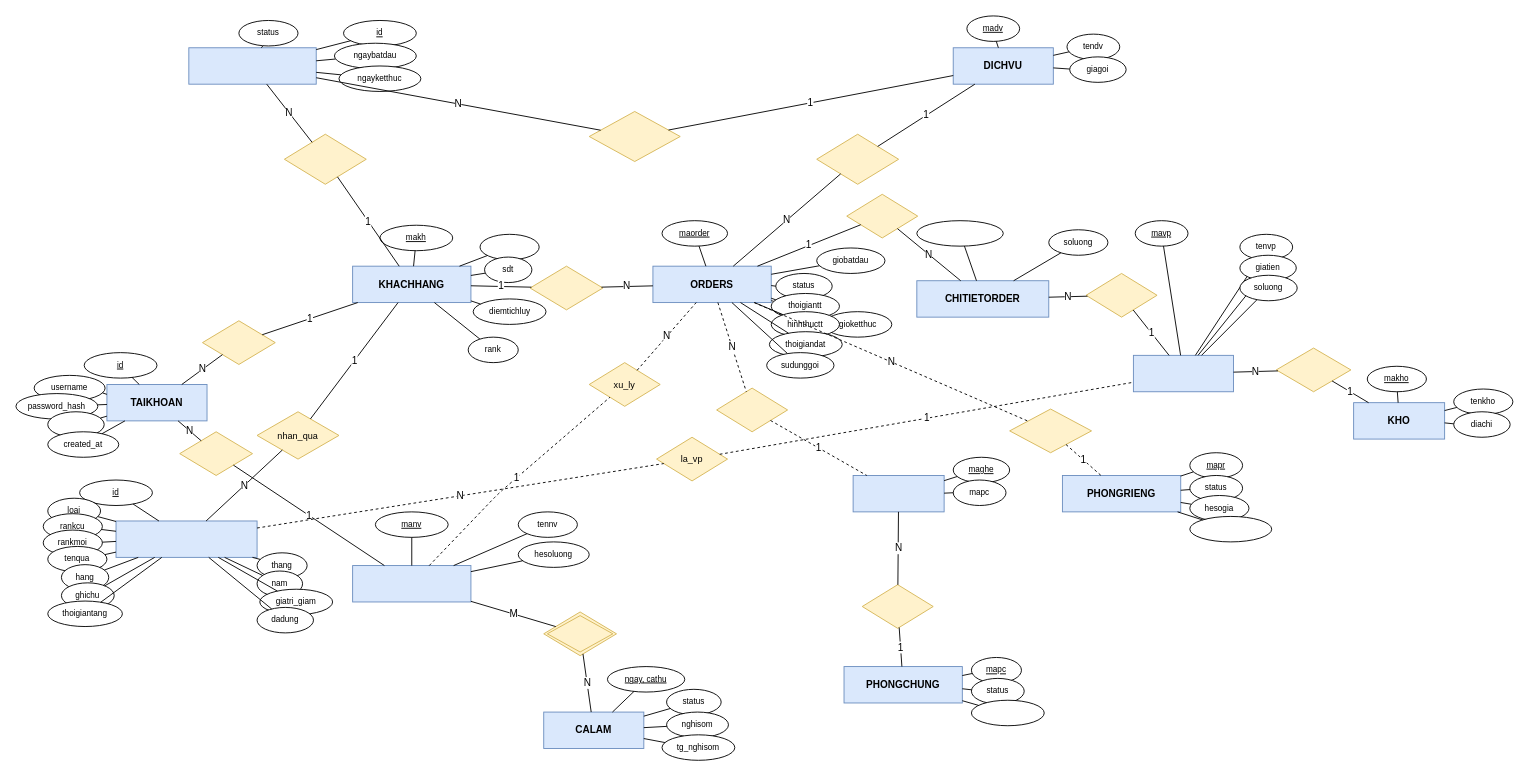
The diagram is 1529 pixels wide and 776 high, and some of its shapes have lost their labels. Here are the shapes that lost their labels. From the top down, the centre of each, then its label:
At pixel 252 65: "GOIHOATDONG".
At pixel 634 136: "dang_ky_dv".
At pixel 324 158: "co_goi".
At pixel 857 158: "su_dung".
At pixel 882 215: "gom".
At pixel 959 233: "maorder,mavp".
At pixel 509 246: "hoten".
At pixel 566 287: "dat".
At pixel 1121 295: "chua".
At pixel 238 342: "co_tk_kh".
At pixel 1183 373: "VATPHAM".
At pixel 1313 369: "luu_tai".
At pixel 75 424: "role".
At pixel 752 409: "ngoi".
At pixel 1050 430: "dat_phong".
At pixel 216 453: "co_tk_nv".
At pixel 898 493: "GHE".
At pixel 186 538: "LICHSU_QUATANG".
At pixel 1230 529: "songuoitoida".
At pixel 411 583: "NHANVIEN".
At pixel 897 606: "thuoc".
At pixel 580 633: "lam_ca".
At pixel 1007 712: "soghetrong".
